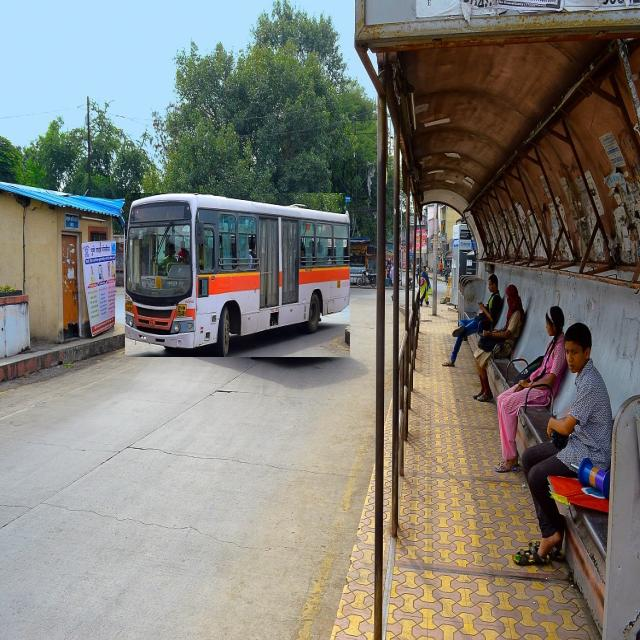bus: (125, 194, 350, 357)
